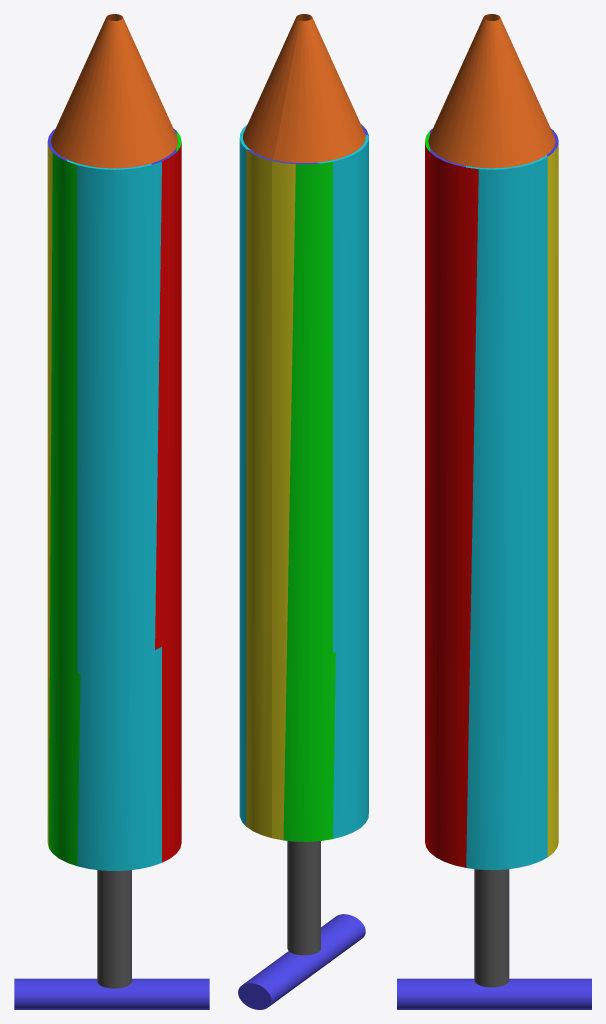
Rendered from pichkaari.glb.
The picture shows the model from 3 angles, left to right: view 1: azimuth 90°, elevation 25°; view 2: azimuth 150°, elevation 25°; view 3: azimuth 270°, elevation 25°; orthographic projection. The views are drawn at different scales.
Parts seen in each view (by area): view 1: Cylinder, Cylinder.001; view 2: Cylinder, Cylinder.001; view 3: Cylinder, Cylinder.001.
Part boxes in pixels (x1,y1,x2,y2): Cylinder: [14, 128, 209, 1009]; Cylinder.001: [51, 14, 178, 168]; Cylinder: [238, 124, 368, 1009]; Cylinder.001: [243, 14, 365, 171]; Cylinder: [397, 128, 591, 1009]; Cylinder.001: [428, 14, 555, 168].
Size of the model in its own units: 0.3893 by 3.17 by 0.5667.
